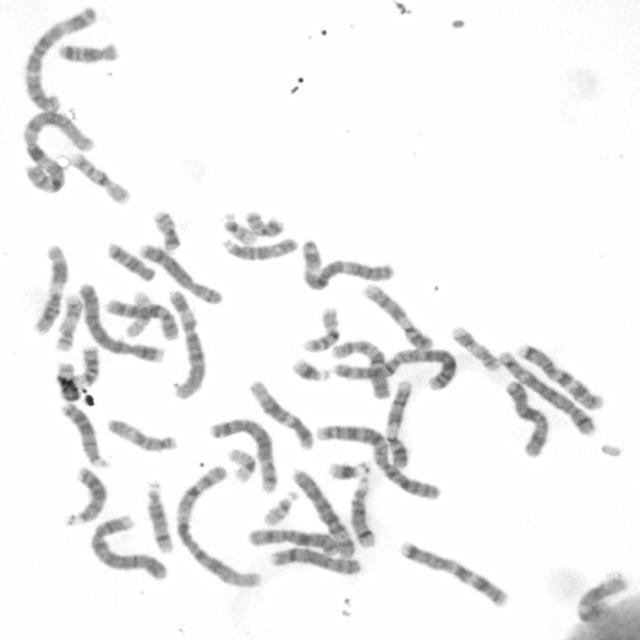A1: (172, 460, 264, 590), (18, 108, 97, 194)
A2: (313, 421, 442, 501), (328, 344, 459, 392)
A3: (19, 4, 98, 111), (296, 236, 396, 293)
B4: (76, 278, 166, 364), (87, 511, 170, 581)
B5: (496, 345, 598, 437), (205, 416, 280, 494)
C10: (328, 335, 393, 401), (102, 295, 180, 342)
C11: (29, 240, 70, 336), (53, 341, 101, 398)
C12: (246, 376, 315, 452), (575, 575, 626, 624)
C6: (288, 465, 356, 561), (164, 288, 208, 401)
C7: (396, 538, 512, 609), (513, 339, 606, 412)
C8: (135, 240, 224, 306), (266, 544, 362, 576)
C9: (360, 279, 434, 352), (382, 376, 415, 469)
D13: (57, 399, 110, 469), (62, 463, 109, 527)
D14: (142, 479, 175, 553), (347, 476, 377, 548)
D15: (104, 415, 181, 454), (216, 233, 300, 263)
E16: (66, 149, 133, 207), (298, 304, 342, 354)
E17: (448, 323, 502, 372), (52, 293, 84, 352)
E18: (103, 239, 157, 283), (55, 40, 120, 64)
F19: (120, 290, 155, 339), (224, 444, 260, 486)
F20: (149, 206, 183, 252), (241, 206, 287, 239)
G21: (325, 454, 372, 482), (287, 355, 332, 383)
G22: (218, 210, 260, 248), (259, 488, 299, 526)
X: (502, 378, 550, 458), (245, 524, 342, 557)
